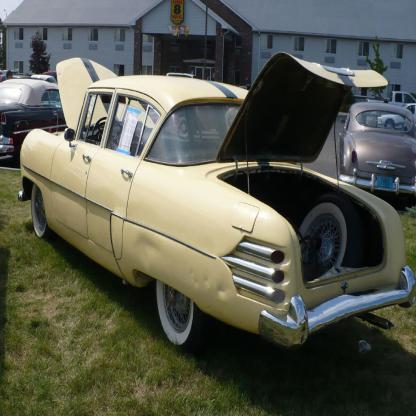Car: (17, 49, 416, 352), (338, 100, 416, 196), (0, 76, 70, 160), (374, 104, 415, 132), (0, 131, 15, 156)
